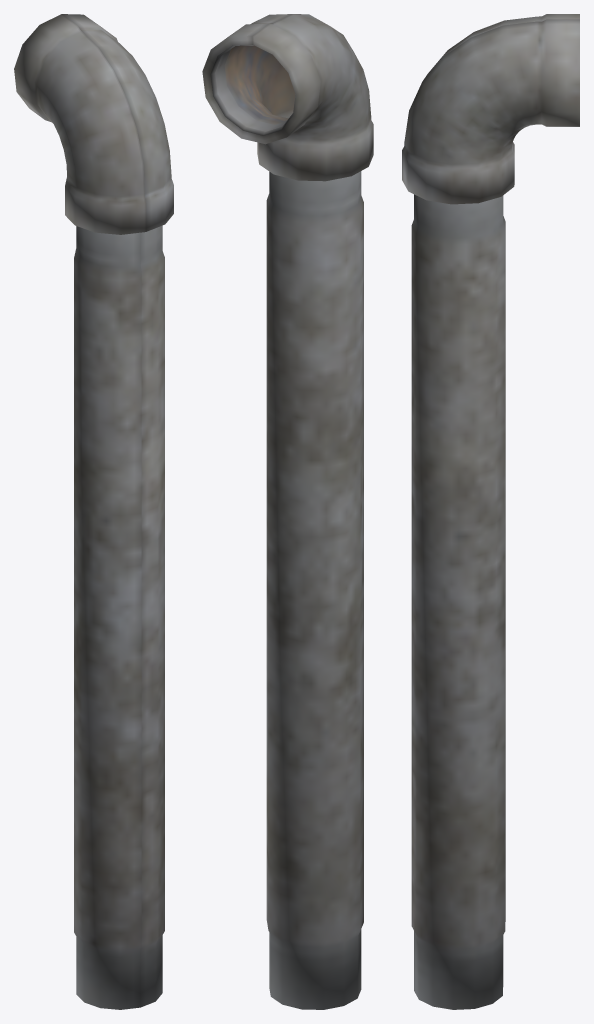
Rendered from pipe.dae.
3 renders of one model, left to right at view 1: azimuth 30°, elevation 25°; view 2: azimuth 150°, elevation 25°; view 3: azimuth 270°, elevation 25°, orthographic. The views are drawn at different scales.
Visible parts, largest first — view 1: Pipe; view 2: Pipe; view 3: Pipe.
Boxes of the visible parts, x1,y1,x2,y2 form: Pipe: [14, 14, 173, 1009]; Pipe: [202, 14, 373, 1009]; Pipe: [402, 14, 579, 1009].
Size of the model in its own units: 0.2386 by 0.3737 by 2.25.
